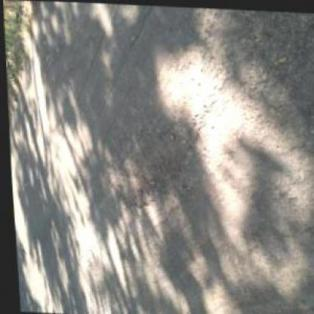Hueco: (108, 109, 203, 211)
